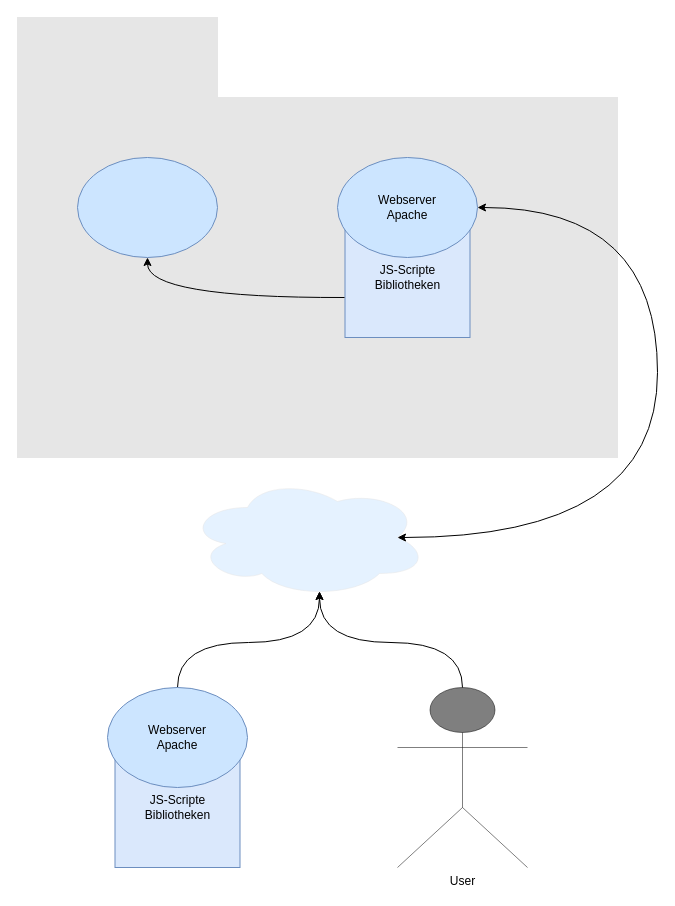
Image size: 675x906. Some labels were removed from this diagram. The centre of each missing label's shape, as x and y in pixels:
"Datenbank Neo4j" belongs at pixel 147 207.
"Internet / Intranet" belongs at pixel 307 537.
"Server" belongs at pixel 117 57.
